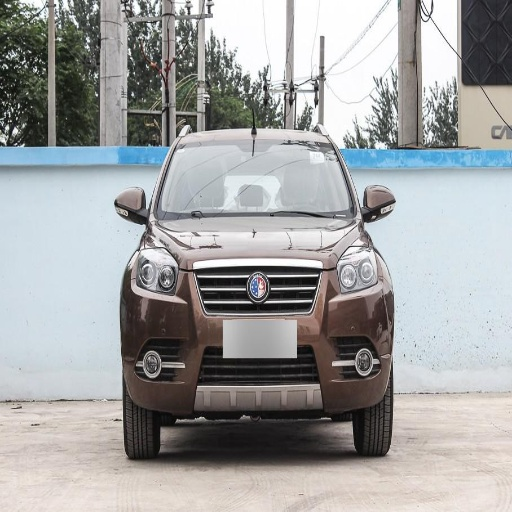front_bumper: (122, 250, 388, 417)
front_right_light: (130, 244, 179, 294)
hood: (149, 215, 366, 269)
